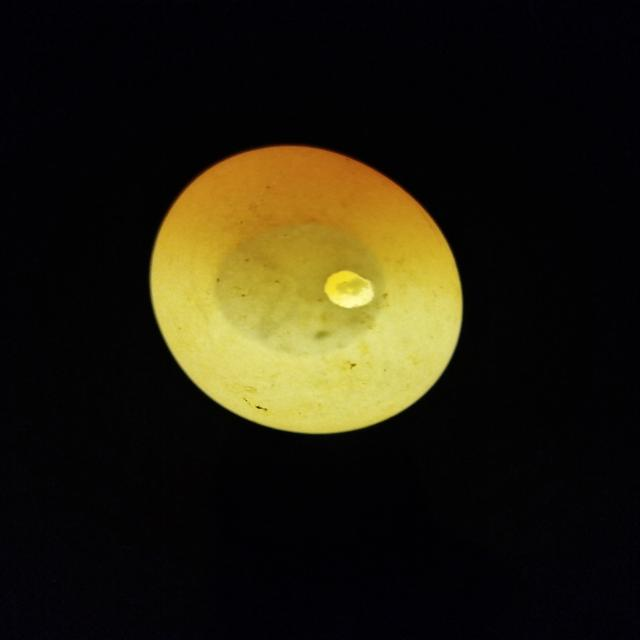Camara de Ar: (216, 227, 387, 356)
